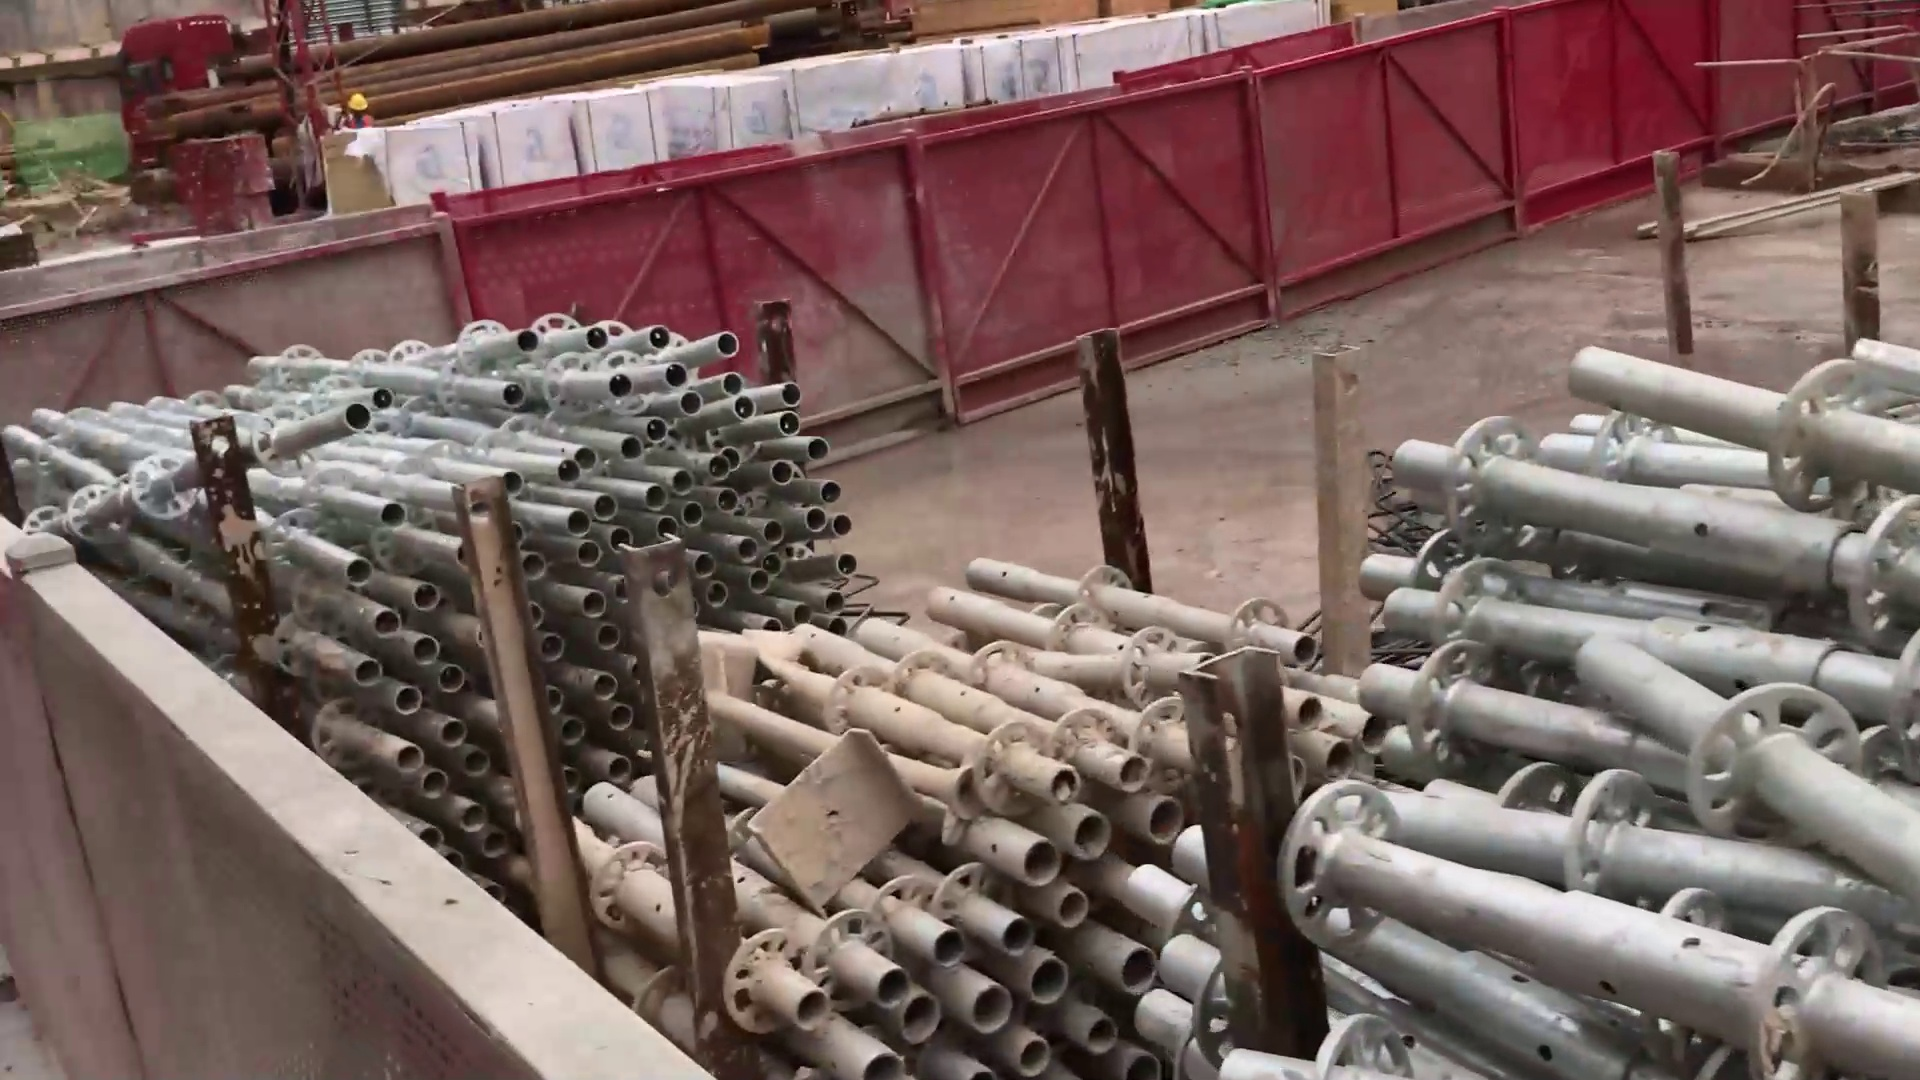fence: (906, 43, 1362, 446)
person: (330, 93, 386, 124)
scaffold: (1234, 323, 1920, 1063), (547, 559, 1256, 1080), (74, 315, 886, 629)
